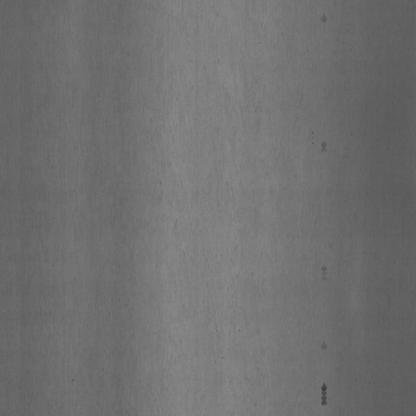oil_spot: (319, 259, 330, 288), (319, 382, 330, 408), (320, 134, 329, 160), (319, 9, 329, 29), (320, 338, 329, 354)
silk_spot: (161, 39, 280, 403)
